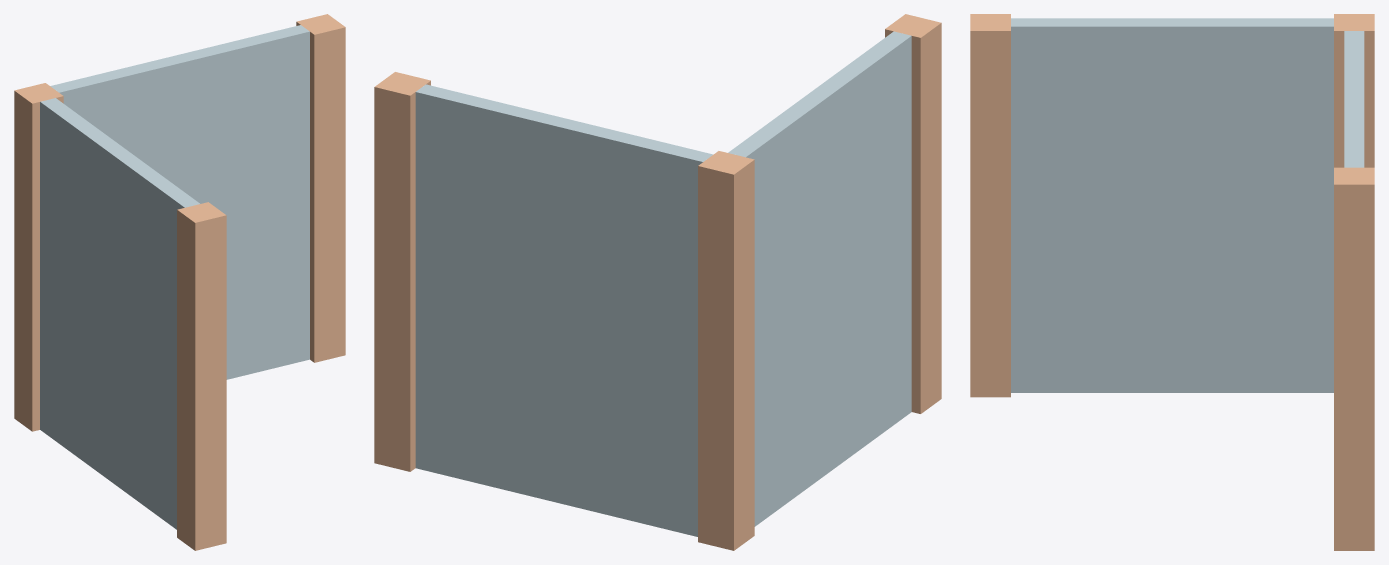
File: wallCorner.glb
3 views of the same model, side by side, from view 1: azimuth 30°, elevation 25°; view 2: azimuth 150°, elevation 25°; view 3: azimuth 270°, elevation 25° (orthographic). The views are drawn at different scales.
Visible parts, largest first — view 1: wallCorner; view 2: wallCorner; view 3: wallCorner.
Part boxes in pixels (left/top/right/bottom): wallCorner: left=14, top=14, right=345, bottom=550; wallCorner: left=374, top=14, right=941, bottom=550; wallCorner: left=970, top=14, right=1374, bottom=550.
Bounding box in the file's own units: 1 × 1 × 1.
